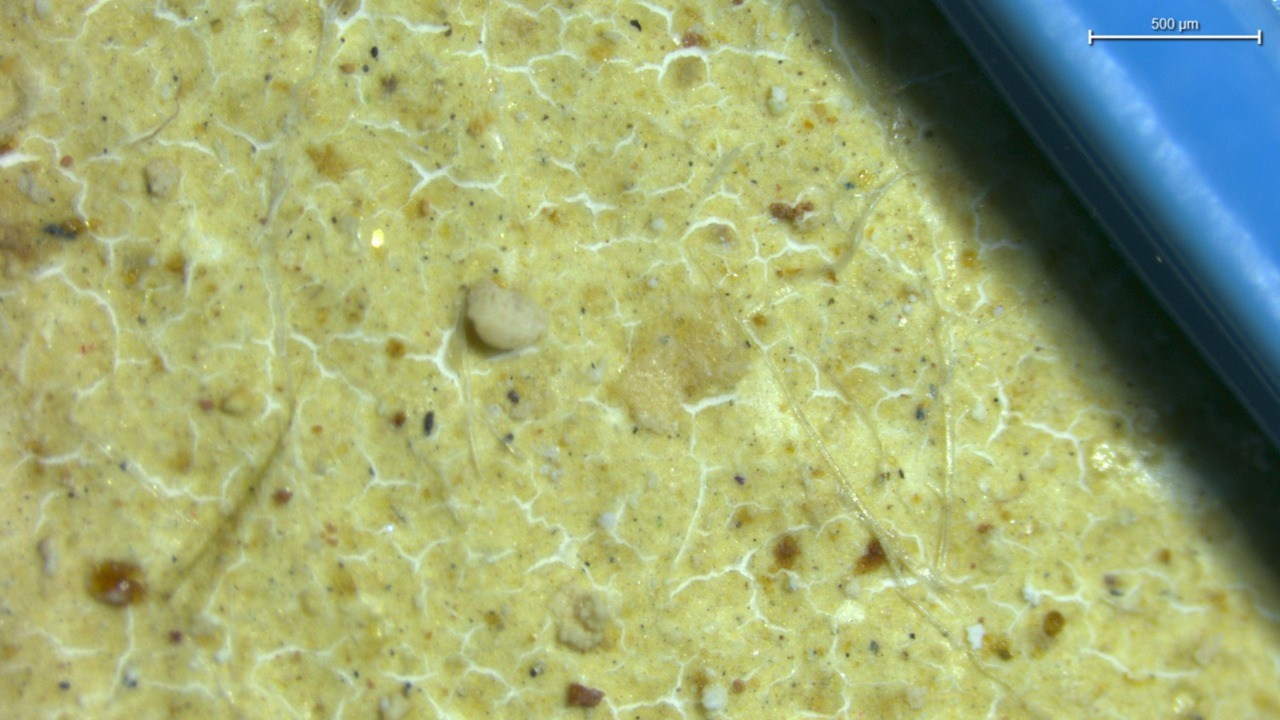microplastic_fragment: (465, 279, 547, 352), (702, 684, 728, 718)
